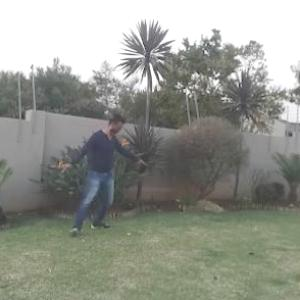land: (44, 101, 165, 250)
